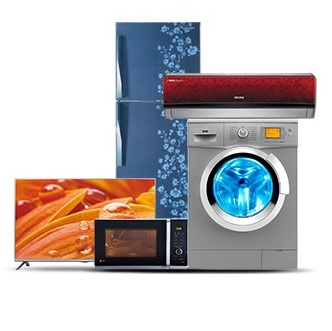AC: (164, 77, 316, 118)
Refrigerator: (115, 22, 163, 176)
